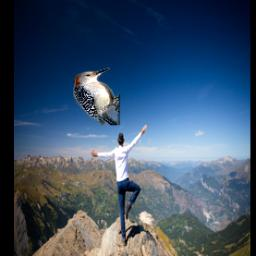Woodpecker: (74, 69, 121, 126)
